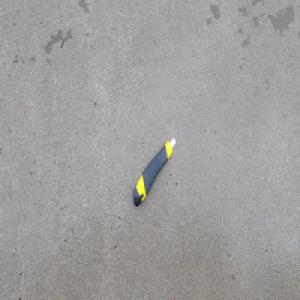Cutter: (132, 135, 176, 208)
